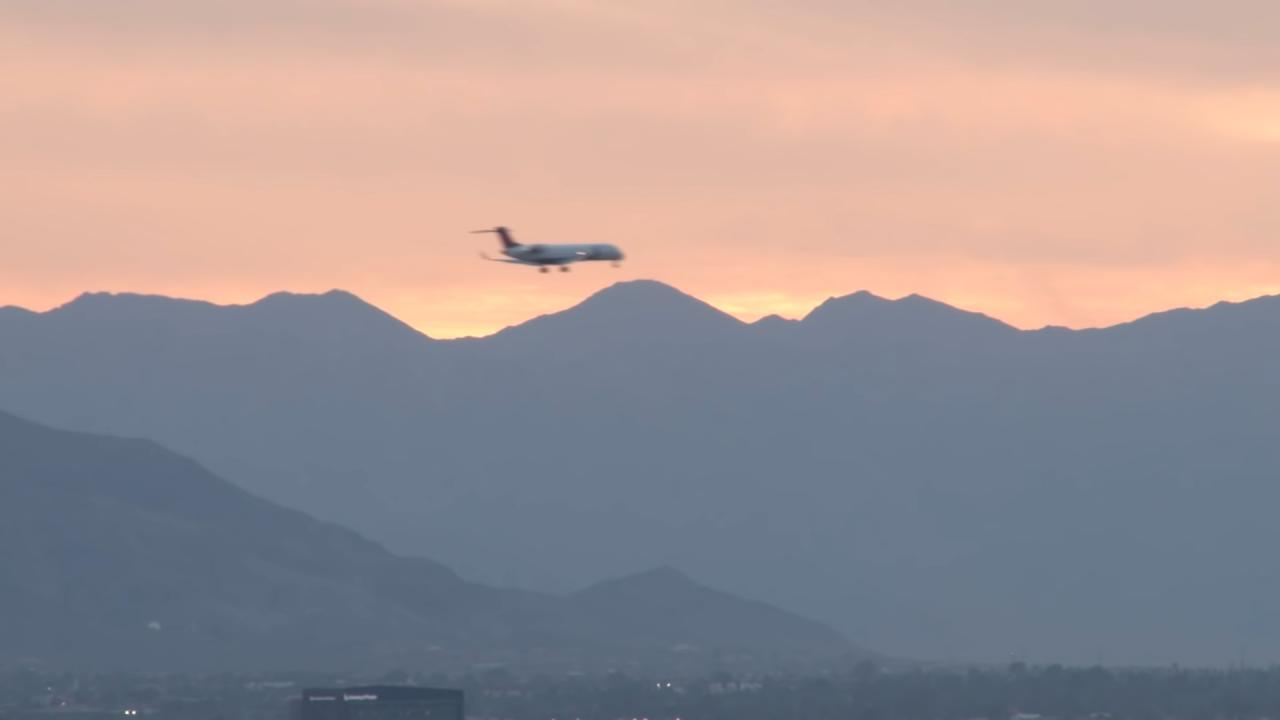Airplane: (462, 209, 636, 288)
